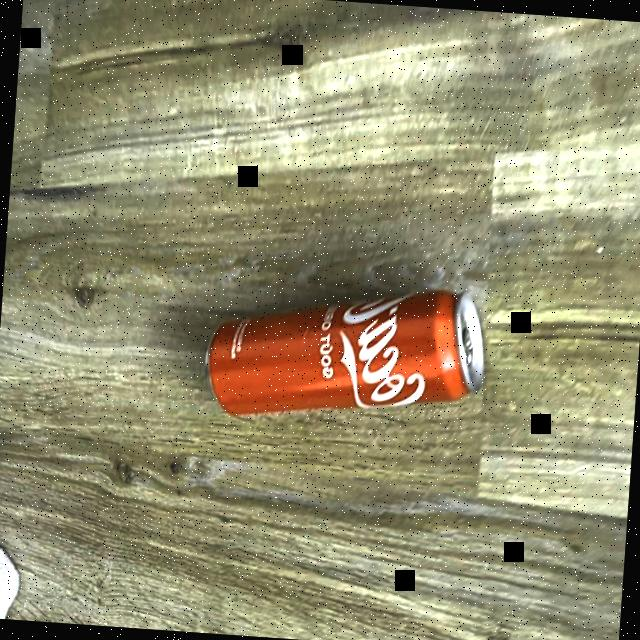can: (197, 271, 498, 439)
